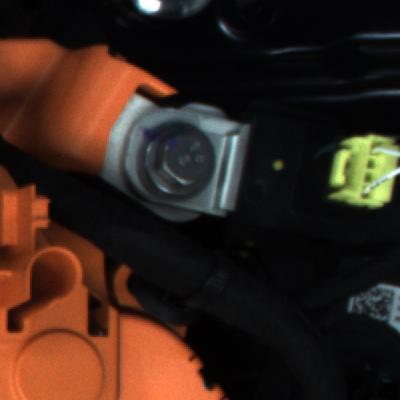nut_b: (132, 119, 228, 209)
